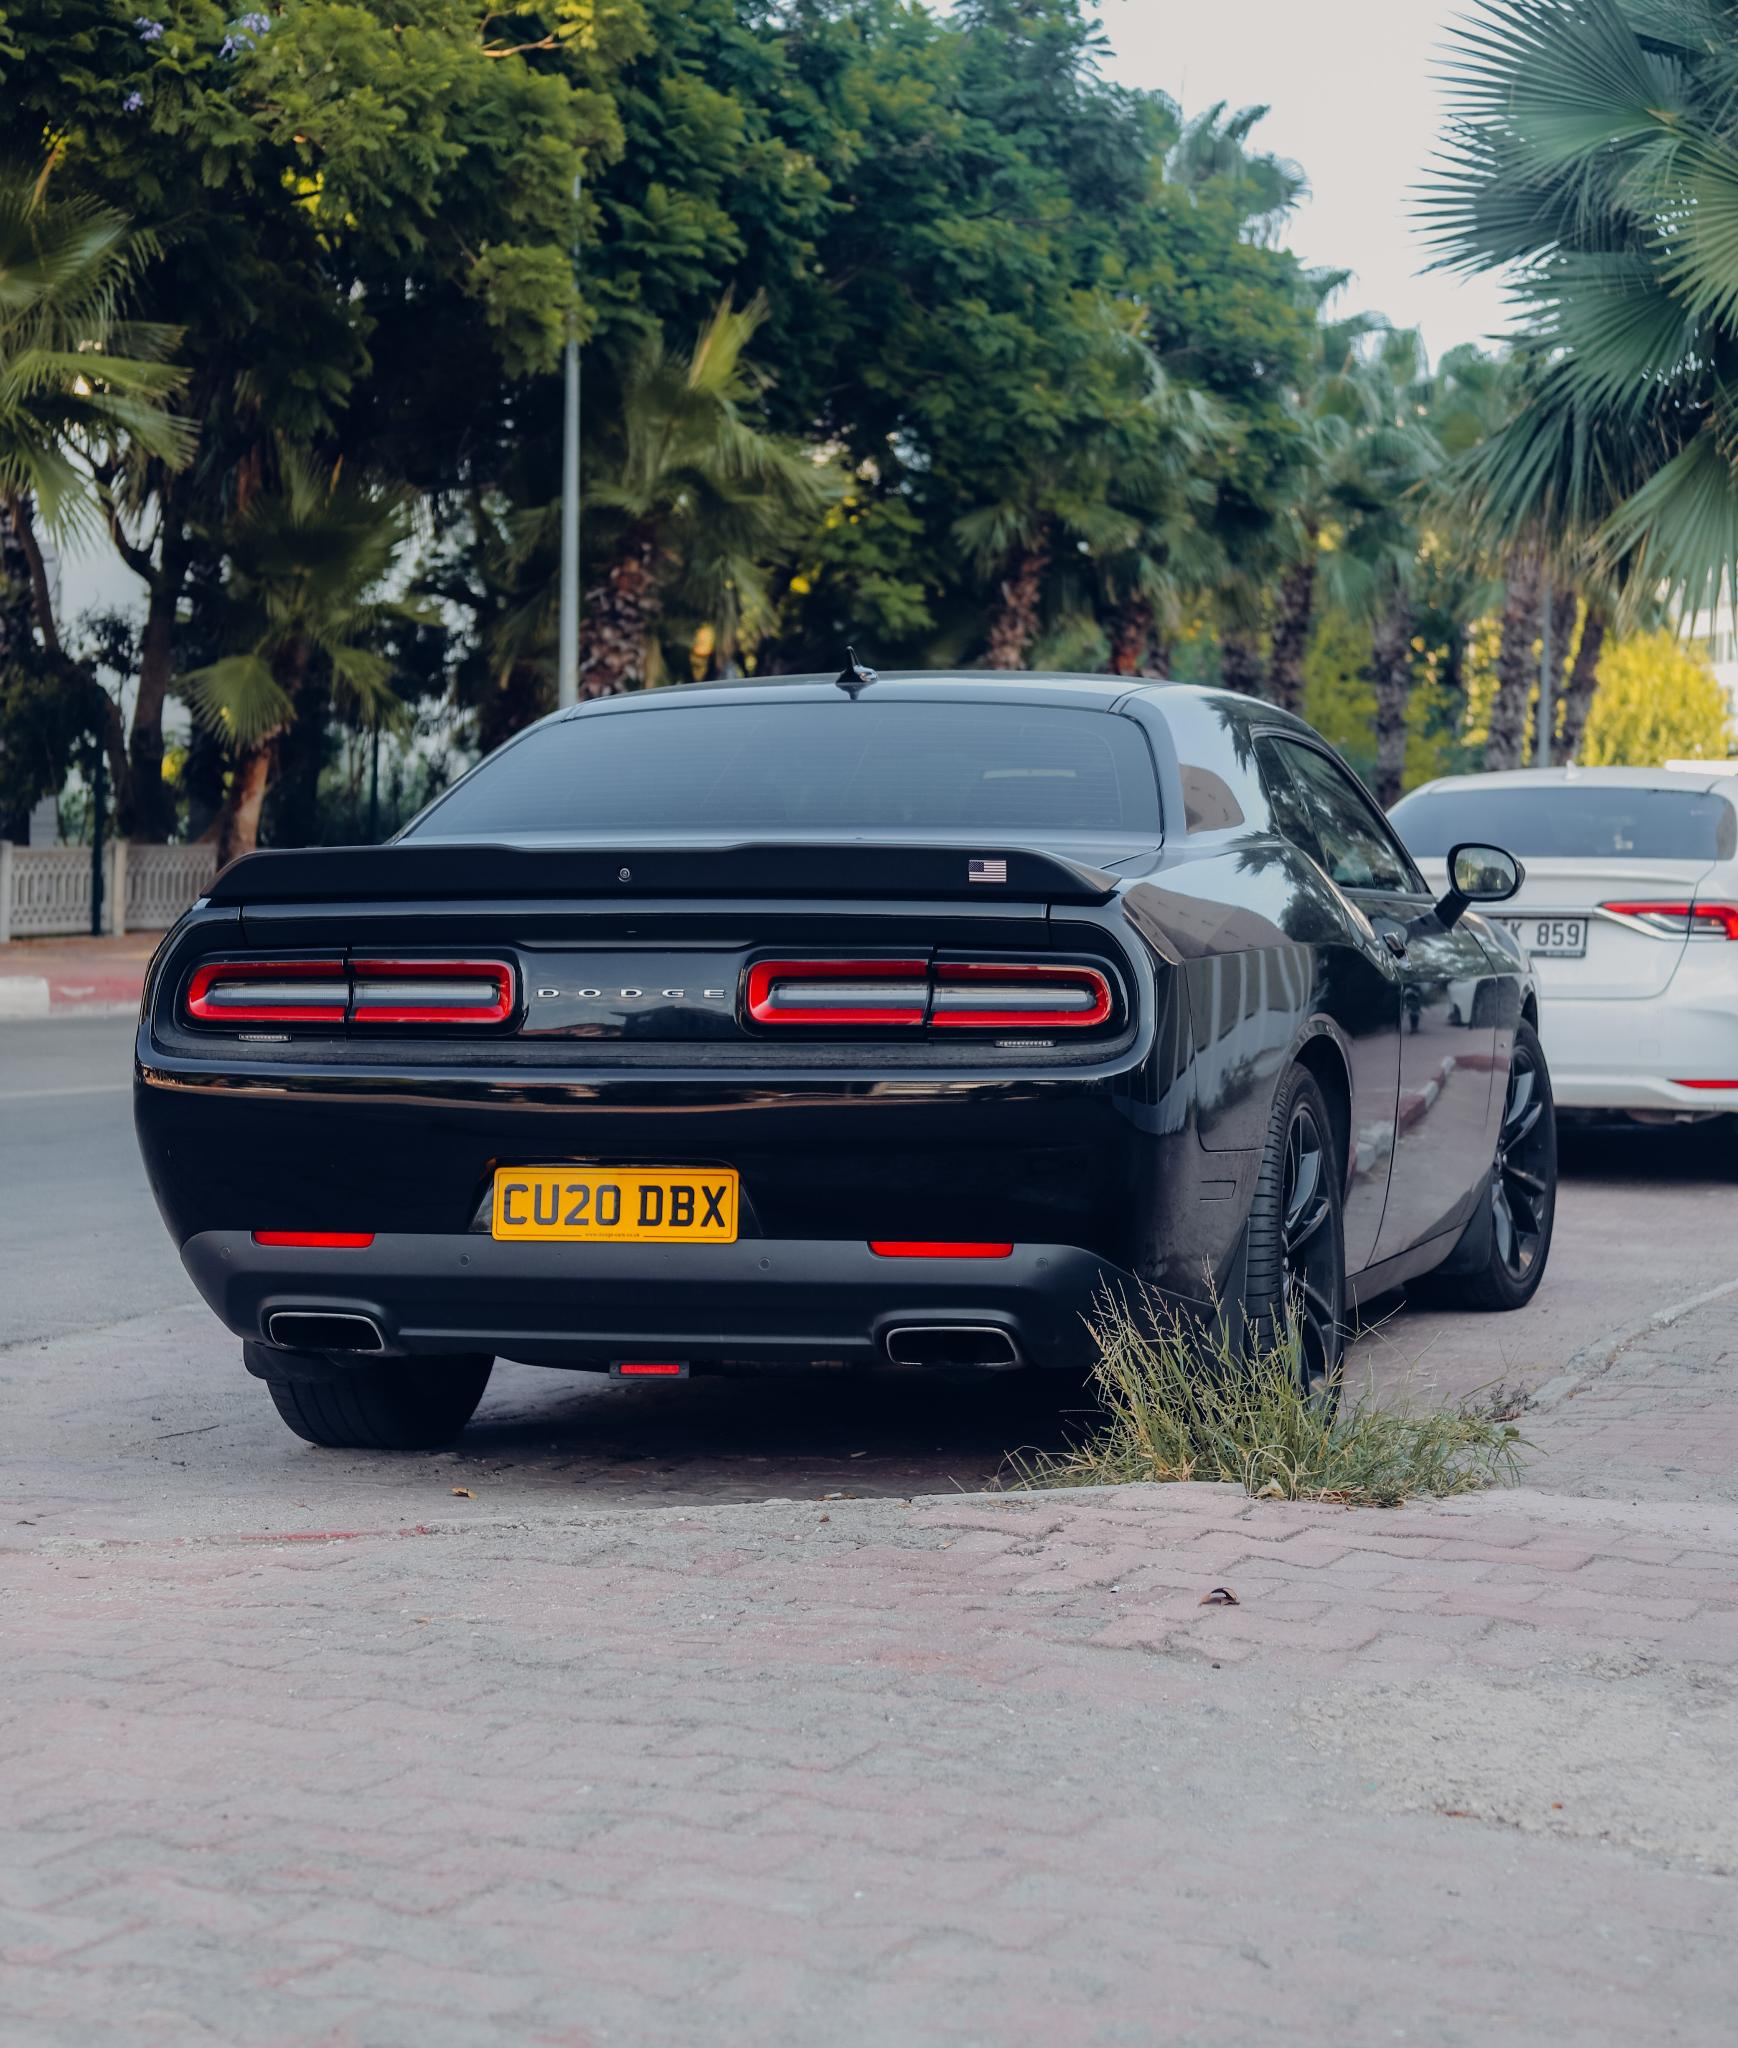dodge: (522, 964, 735, 1029)
